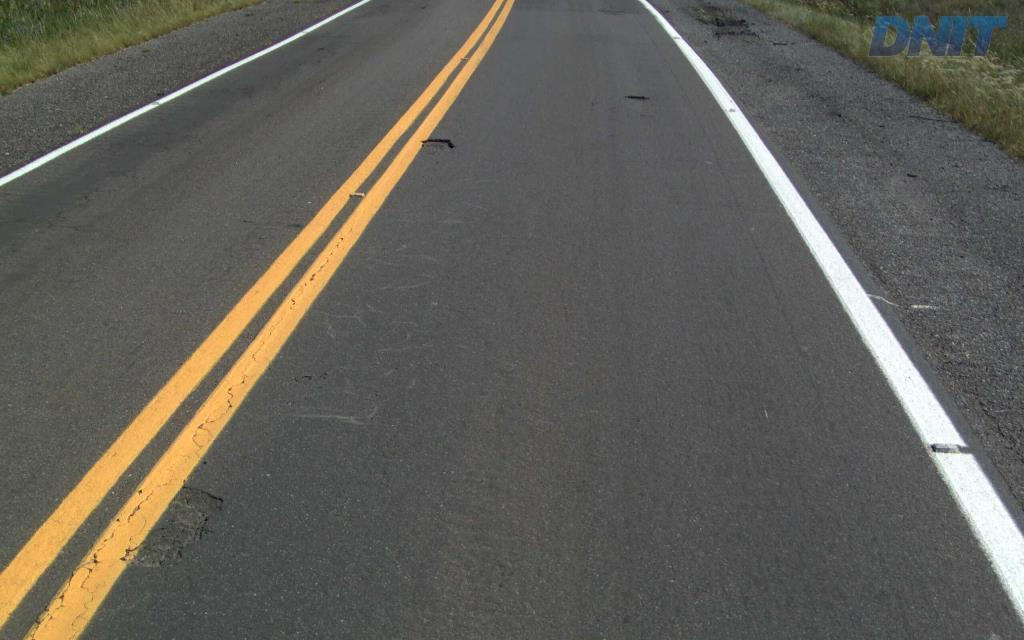pothole: (418, 134, 459, 156), (622, 88, 651, 104)
